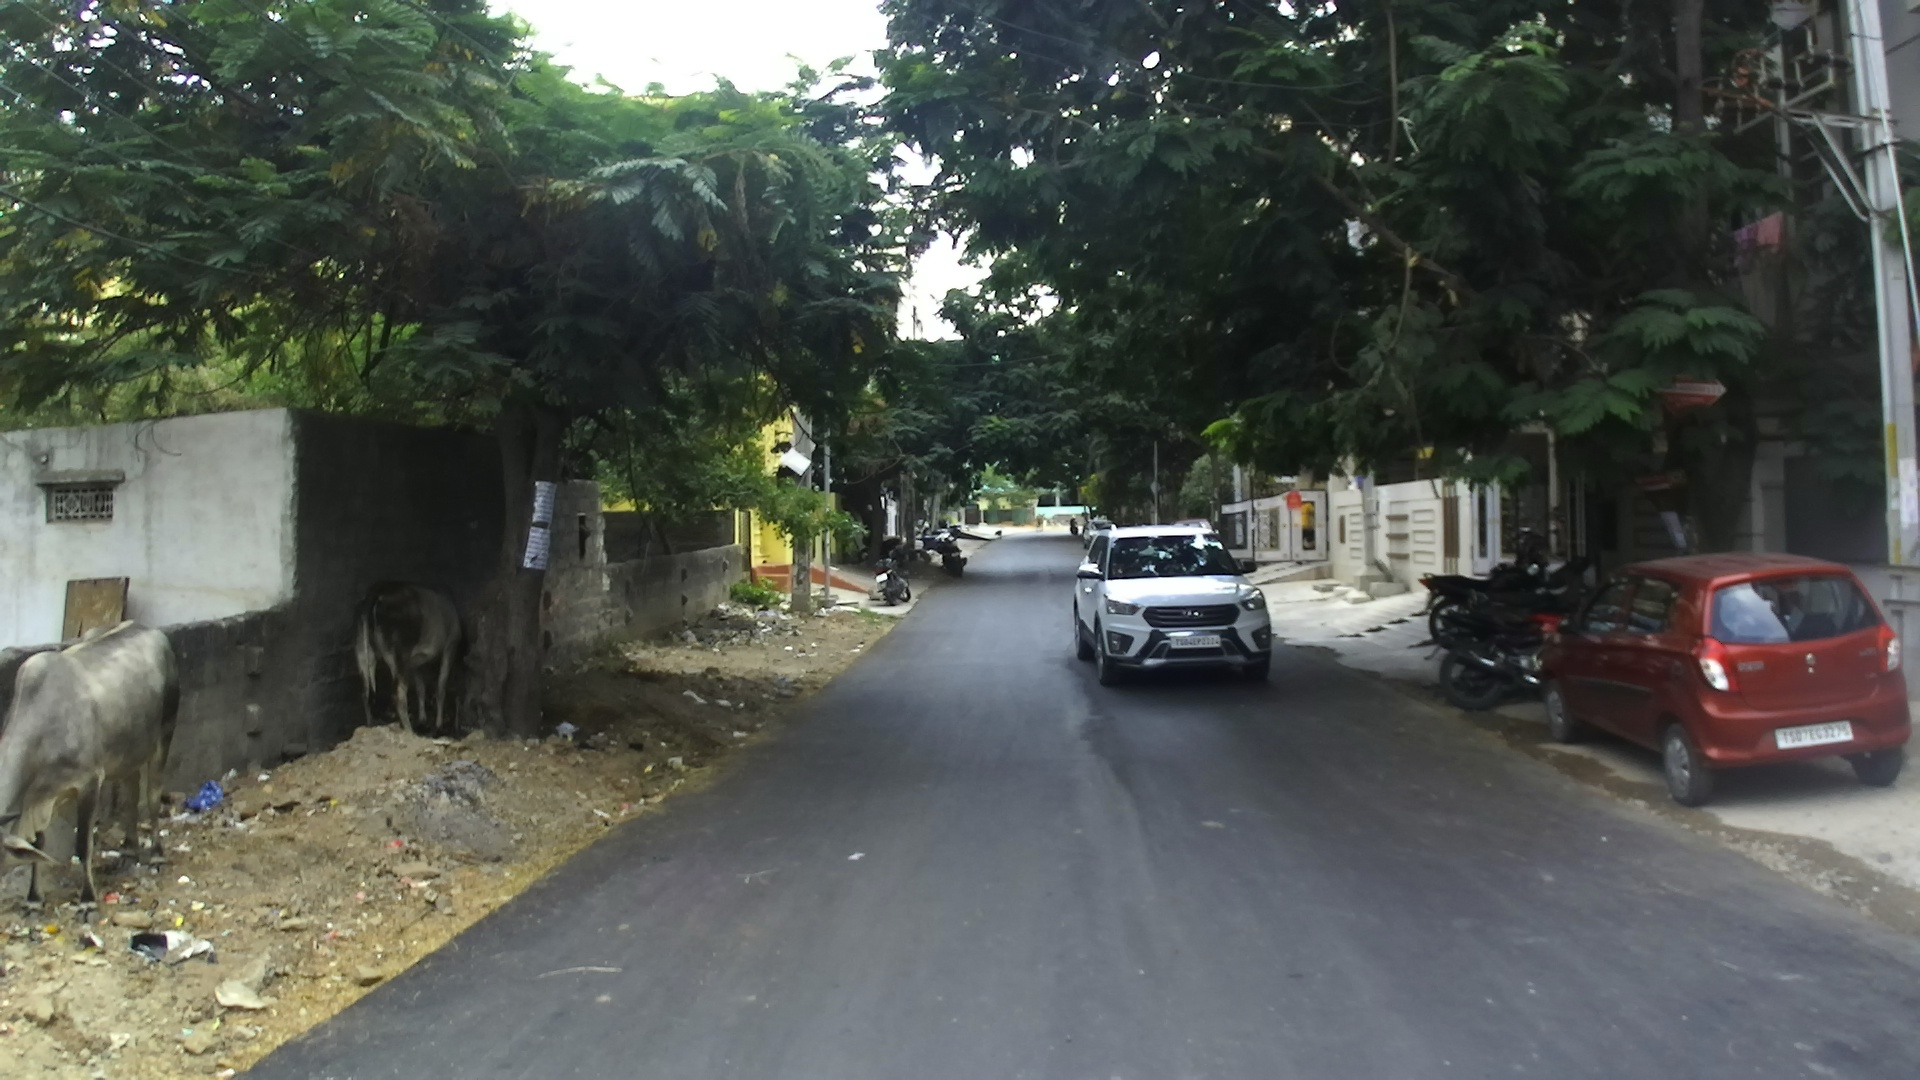vehicle: (1536, 549, 1913, 806), (1069, 525, 1276, 680), (1425, 551, 1610, 705), (960, 533, 1089, 585), (924, 531, 964, 574)
